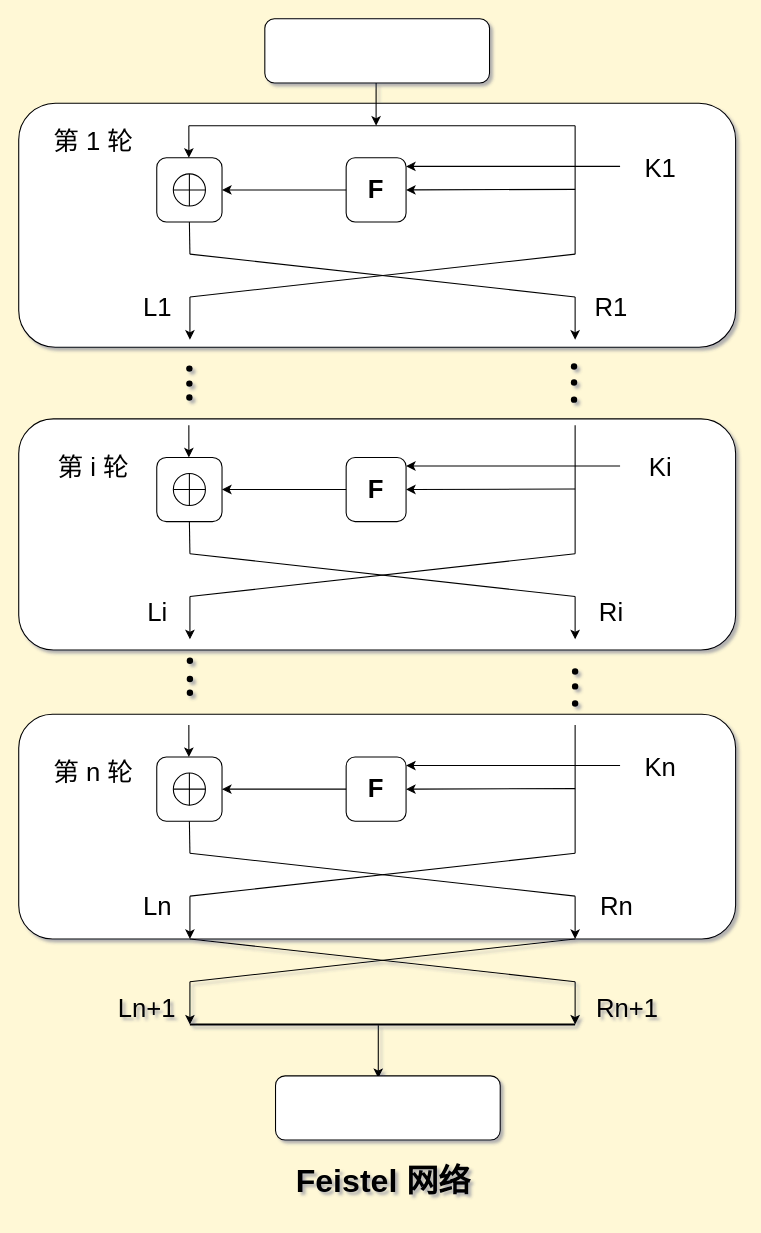
The diagram is 761 pixels wide and 1233 high, and some of its shapes have lost their labels. The shapes that lost their labels are listed below. From the top down, each one's box as (x1, y1, x2, y2) in pixels, then its label:
(264, 18, 490, 83): 明文 ( 2w比特 )
(274, 1075, 500, 1140): 密文 ( 2w 比特 )
